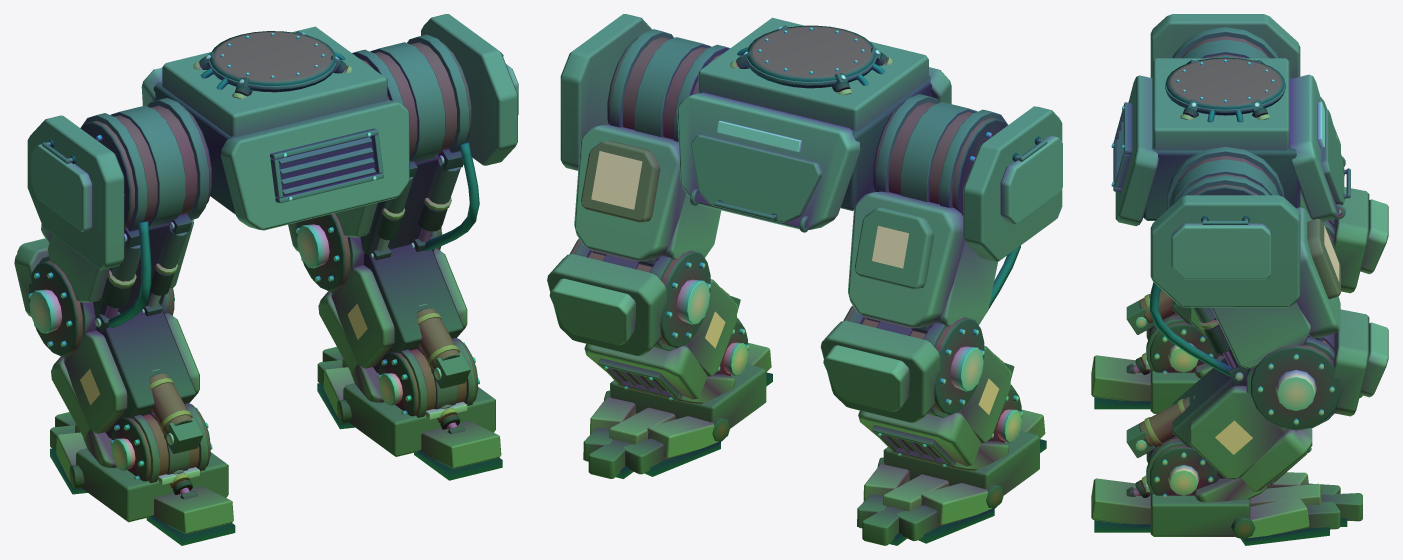
File: legs_biped.glb
3 views of the same model, side by side, from view 1: azimuth 30°, elevation 25°; view 2: azimuth 150°, elevation 25°; view 3: azimuth 270°, elevation 25° (orthographic). The views are drawn at different scales.
Visible parts, largest first — view 1: Body__armor_sub, Leg_L__gunmetal, Body__dark, Leg_L__dark, Leg_R__gunmetal, Leg_L__armor_sub, Leg_R__dark, Leg_R_Knee__dark, Leg_R__armor_sub, Leg_L_Knee__dark, Leg_R_Ankle__gunmetal, Leg_L_Ankle__gunmetal (+23 smaller); view 2: Leg_L__armor, Body__armor_sub, Leg_L__armor_sub, Leg_R__armor, Leg_R__armor_sub, Body__armor, Body__dark, Leg_L__gunmetal, Leg_L__dark, Leg_R__gunmetal, Leg_R_Ankle__gunmetal, Leg_L_Ankle__gunmetal (+24 smaller); view 3: Leg_R__armor, Leg_R__armor_sub, Body__armor_sub, Body__dark, Leg_L__armor_sub, Leg_R__gunmetal, Leg_R__dark, Leg_R_Ankle__gunmetal, Leg_R_Knee__armor_sub, Body__armor, Leg_R_Ankle__armor_sub, Leg_R_Ankle__armor (+21 smaller).
Boxes of the visible parts, <box> form: Body__armor_sub: <box>162,26,409,230</box>; Leg_L__gunmetal: <box>39,98,209,357</box>; Body__dark: <box>153,30,388,214</box>; Leg_L__dark: <box>29,105,212,356</box>; Leg_R__gunmetal: <box>327,34,503,292</box>; Leg_L__armor_sub: <box>14,115,124,316</box>; Leg_R__dark: <box>296,42,471,291</box>; Leg_R_Knee__dark: <box>364,244,463,373</box>; Leg_R__armor_sub: <box>288,14,517,251</box>; Leg_L_Knee__dark: <box>96,309,196,438</box>; Leg_R_Ankle__gunmetal: <box>317,337,495,456</box>; Leg_L_Ankle__gunmetal: <box>50,403,228,522</box>; Leg_L__armor: <box>823,135,1062,411</box>; Body__armor_sub: <box>691,17,951,222</box>; Leg_L__armor_sub: <box>820,106,1062,422</box>; Leg_R__armor: <box>549,124,721,345</box>; Leg_R__armor_sub: <box>547,14,666,356</box>; Body__armor: <box>677,92,860,229</box>; Body__dark: <box>695,25,932,220</box>; Leg_L__gunmetal: <box>848,94,1047,417</box>; Leg_L__dark: <box>843,102,1040,414</box>; Leg_R__gunmetal: <box>575,29,730,351</box>; Leg_R_Ankle__gunmetal: <box>583,318,766,478</box>; Leg_L_Ankle__gunmetal: <box>857,384,1039,545</box>; Leg_R__armor: <box>1171,207,1388,397</box>; Leg_R__armor_sub: <box>1150,195,1369,416</box>; Body__armor_sub: <box>1115,58,1344,226</box>; Body__dark: <box>1143,57,1344,220</box>; Leg_L__armor_sub: <box>1150,14,1369,293</box>; Leg_R__gunmetal: <box>1149,146,1336,430</box>; Leg_R__dark: <box>1177,156,1341,429</box>; Leg_R_Ankle__gunmetal: <box>1146,436,1362,536</box>; Leg_R_Knee__armor_sub: <box>1189,385,1287,479</box>; Body__armor: <box>1290,74,1338,221</box>; Leg_R_Ankle__armor_sub: <box>1091,478,1267,524</box>; Leg_R_Ankle__armor: <box>1247,472,1321,538</box>.
Bounding box in the file's own units: 2.29 × 2.01 × 1.43.
